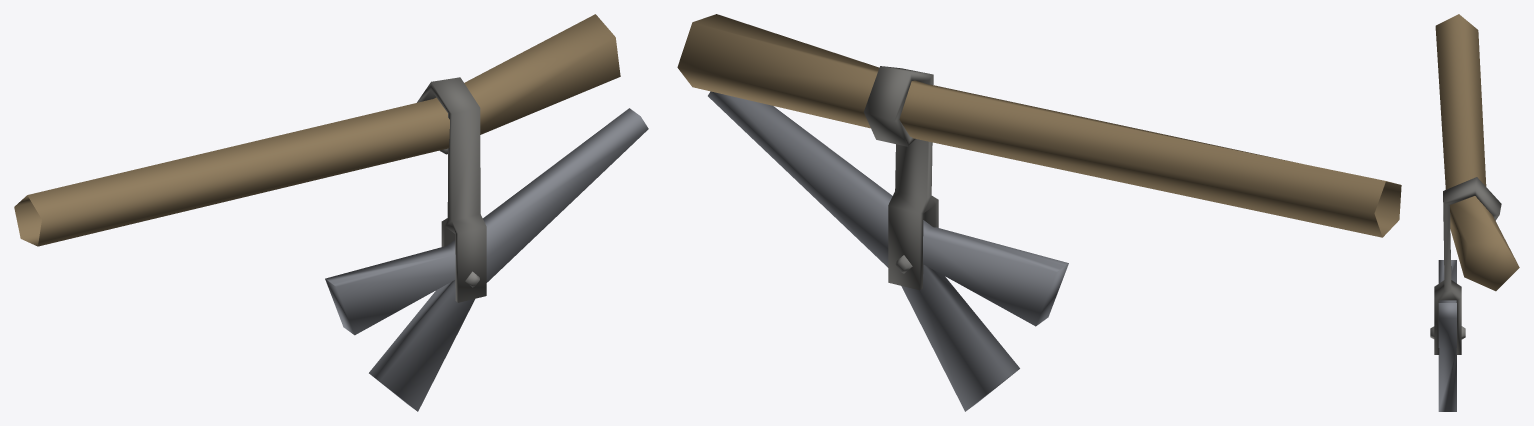
The model's file is rpgpp_ag_bld_sign_04.fbx.
The picture shows the model from 3 angles, left to right: view 1: azimuth 30°, elevation 25°; view 2: azimuth 150°, elevation 25°; view 3: azimuth 270°, elevation 25°; orthographic projection. The views are drawn at different scales.
Parts seen in each view (by area): view 1: rpgpp_ag_bld_sign_04; view 2: rpgpp_ag_bld_sign_04; view 3: rpgpp_ag_bld_sign_04.
Part boxes in pixels (x1,y1,x2,y2): rpgpp_ag_bld_sign_04: [14, 14, 648, 411]; rpgpp_ag_bld_sign_04: [677, 14, 1401, 411]; rpgpp_ag_bld_sign_04: [1430, 14, 1519, 411].
Bounding box in the file's own units: 1.24 × 0.6127 × 0.1913.
